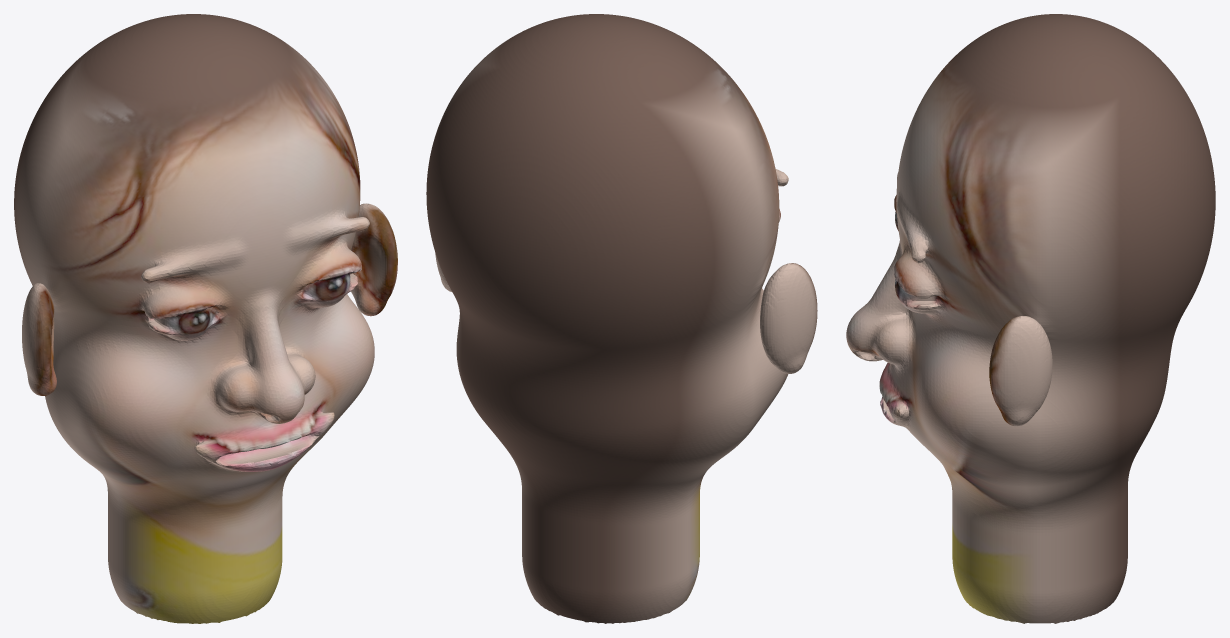
File: karma_face_stage1_A_EXPERIMENT.glb
The picture shows the model from 3 angles, left to right: view 1: azimuth 30°, elevation 25°; view 2: azimuth 150°, elevation 25°; view 3: azimuth 270°, elevation 25°; orthographic projection.
Visible parts, largest first — view 1: geometry_0; view 2: geometry_0; view 3: geometry_0.
Part boxes in pixels (x1,y1,x2,y2): geometry_0: (14, 14, 397, 623); geometry_0: (426, 14, 817, 623); geometry_0: (846, 14, 1215, 623).
Size of the model in its own units: 2.66 by 3.88 by 2.31.
